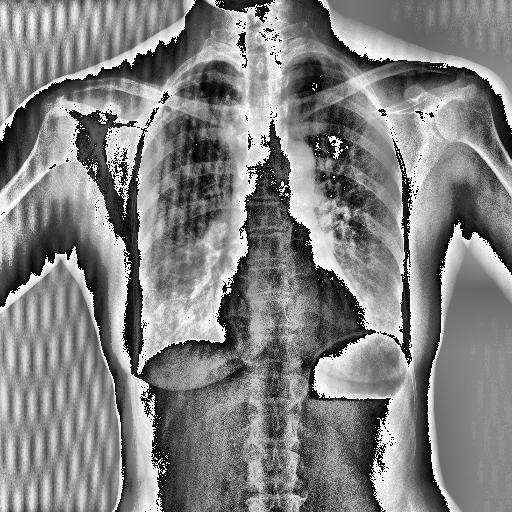11- Pleural thickening: (287, 50, 352, 78), (280, 46, 334, 67), (285, 46, 339, 64)
13- Pulmonary fibrosis: (151, 72, 243, 160)
2- Calcification: (151, 72, 243, 160), (154, 69, 242, 142), (161, 78, 231, 139)
